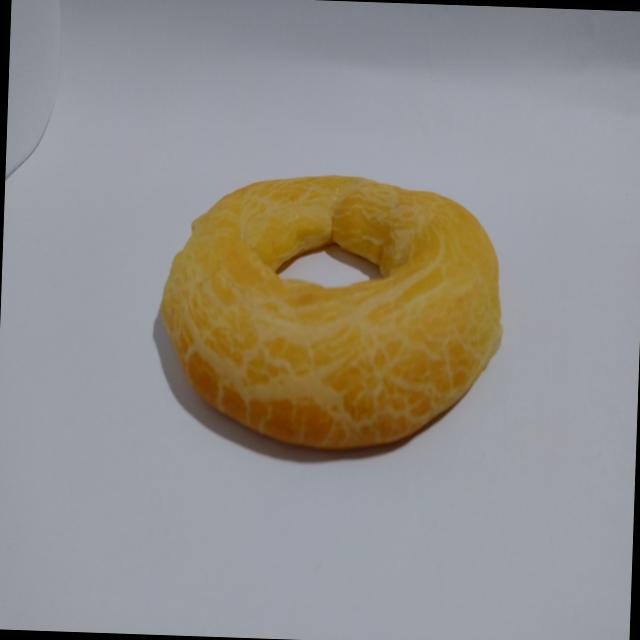Chipa: (141, 150, 518, 470)
